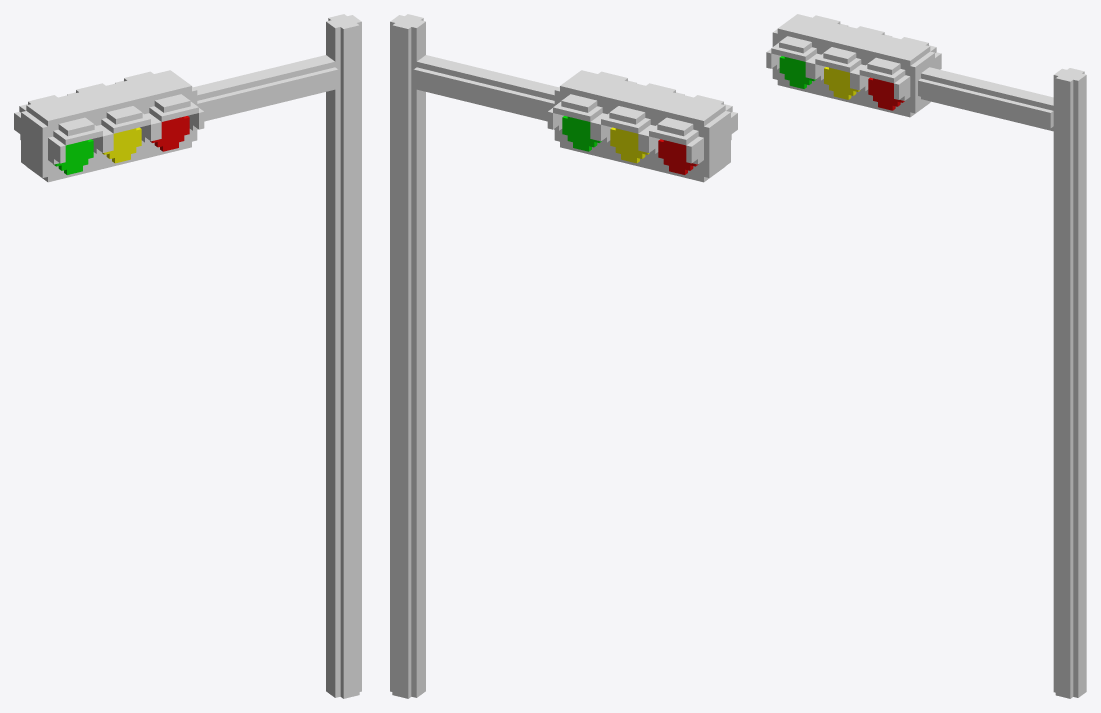
The model's file is traffic.fbx.
3 views of the same model, side by side, from view 1: azimuth 30°, elevation 25°; view 2: azimuth 150°, elevation 25°; view 3: azimuth 330°, elevation 25° (orthographic). The views are drawn at different scales.
Parts seen in each view (by area): view 1: traffic; view 2: traffic; view 3: traffic.
Boxes of the visible parts, box(x1,y1,x2,y2) form: traffic: box(14, 14, 361, 698); traffic: box(390, 14, 737, 698); traffic: box(766, 14, 1086, 698).
Size of the model in its own units: 6100 by 12000 by 1500.
Materials: 1 (1 with a texture image).
